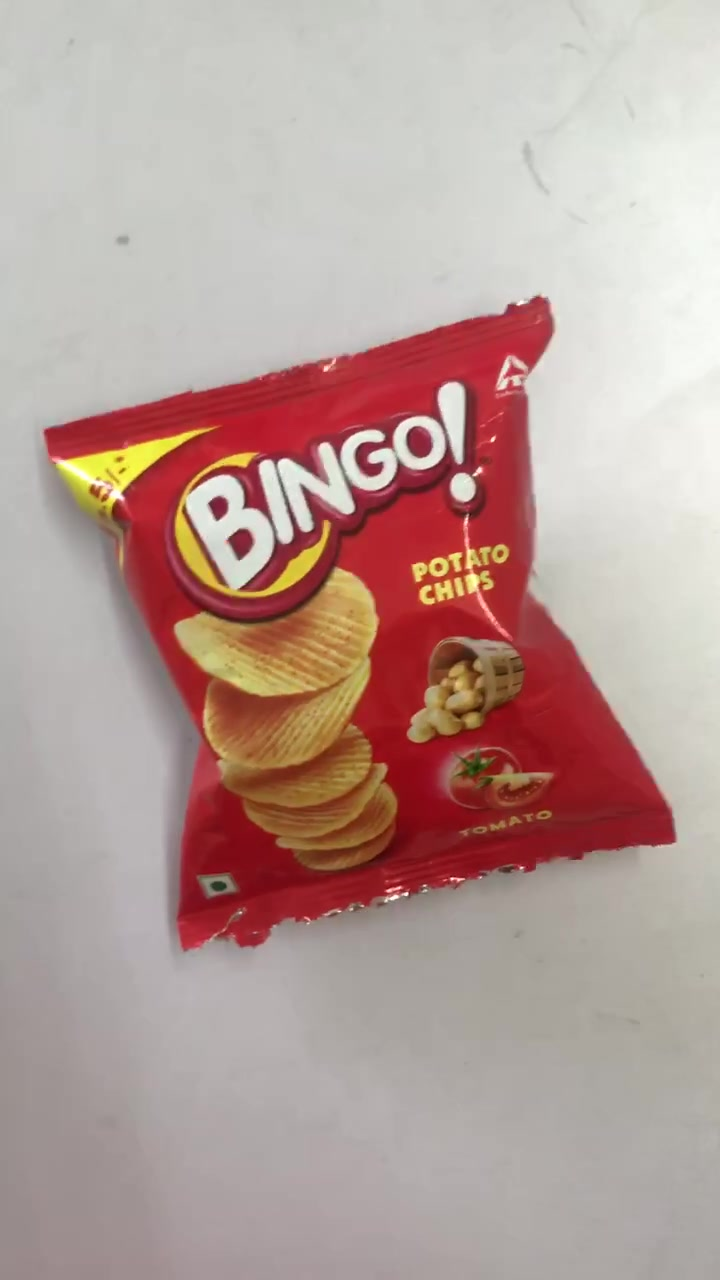Bingo: (52, 324, 666, 909)
